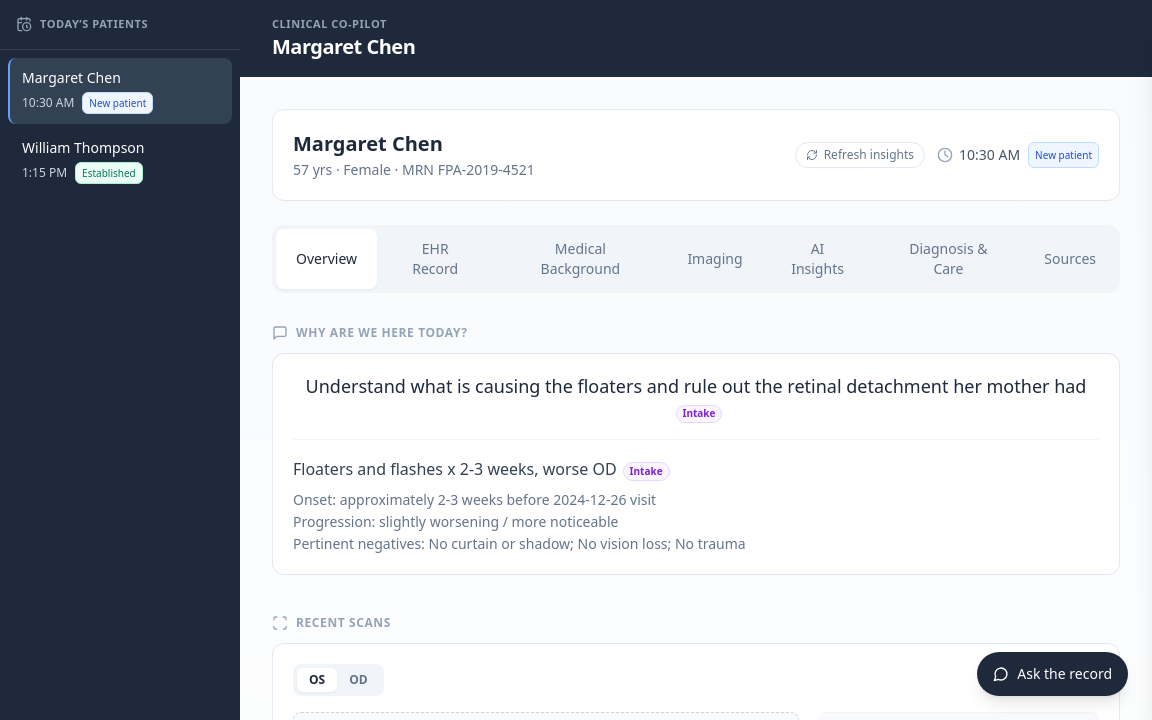
Test case: AI insights › renders the LLM sections from an existing brief on the AI Insights tab
Check: the button "Refresh insights" is shown, box [795,142,925,168]
Click the tab "AI Insights" at coordinates (818, 258), box [763,228,872,288]
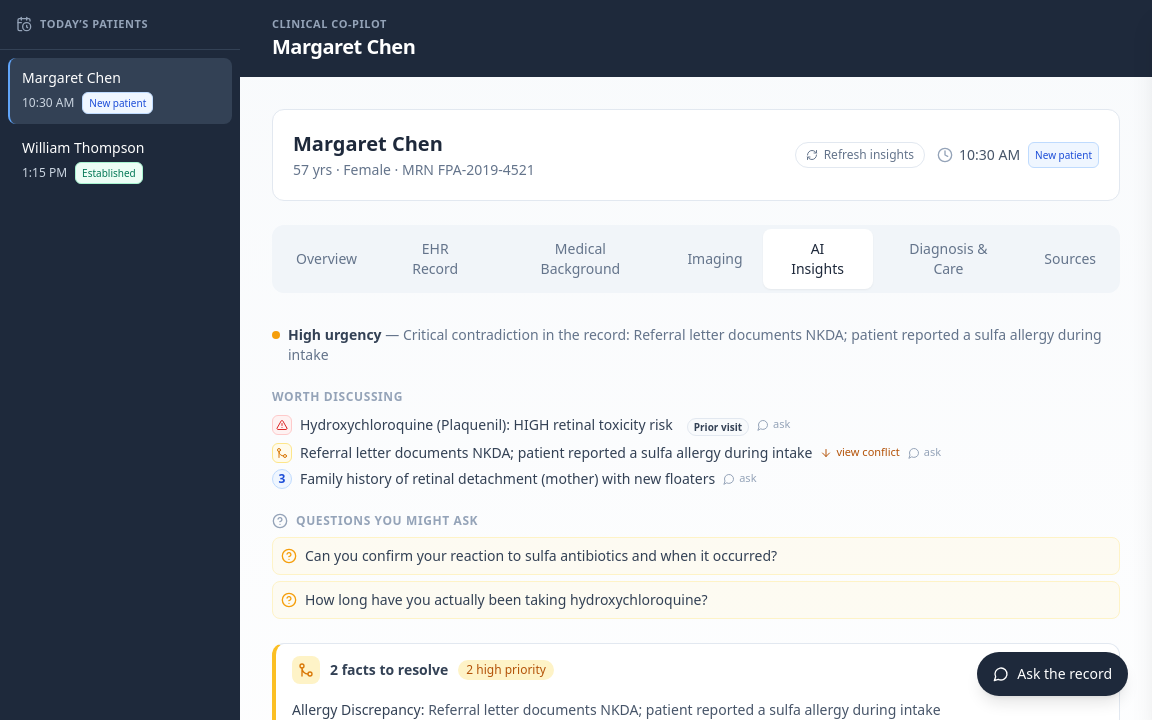
Check: the element with test id "urgency-banner" shows "High urgency", box [288,324,382,344]
Check: the element with test id "urgency-banner" shows "Critical contradiction in the record", box [288,324,1102,364]
Check: the heading "Worth discussing" is shown, box [272,388,403,404]
